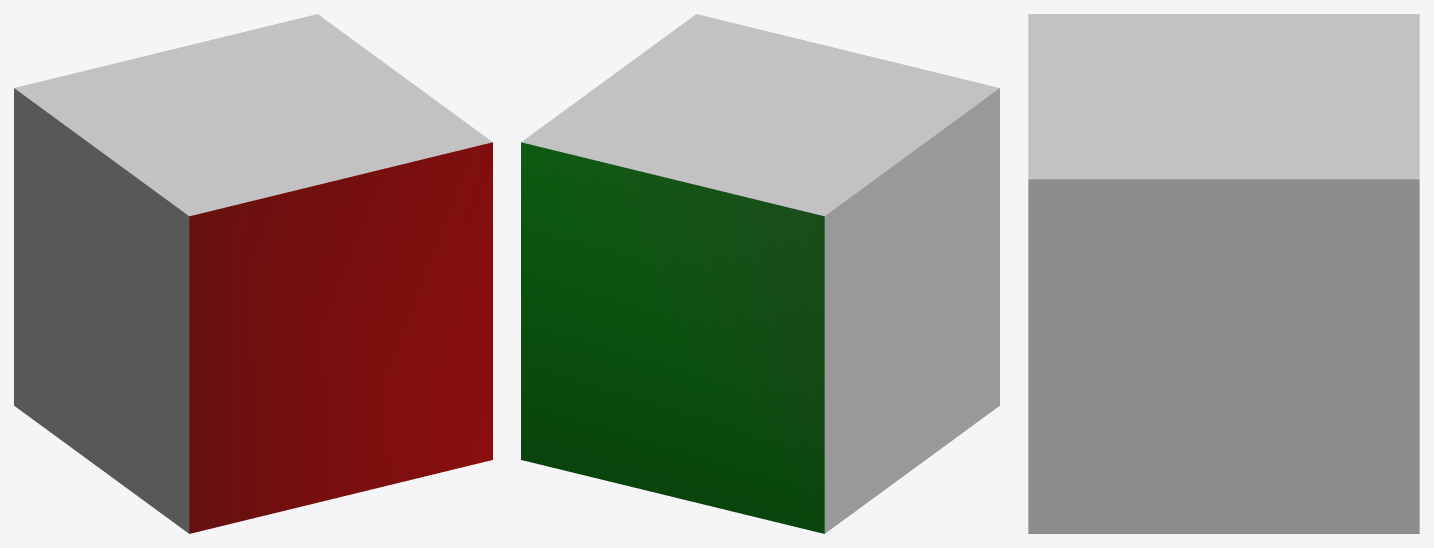
The picture shows the model from 3 angles, left to right: view 1: azimuth 30°, elevation 25°; view 2: azimuth 150°, elevation 25°; view 3: azimuth 270°, elevation 25°; orthographic projection. The views are drawn at different scales.
Parts seen in each view (by area): view 1: Cube; view 2: Cube; view 3: Cube.
Boxes of the visible parts, box(x1,y1,x2,y2) form: Cube: box(14, 14, 492, 533); Cube: box(521, 14, 999, 533); Cube: box(1028, 14, 1419, 533).
Size of the model in its own units: 1.89 by 1.89 by 1.89.
